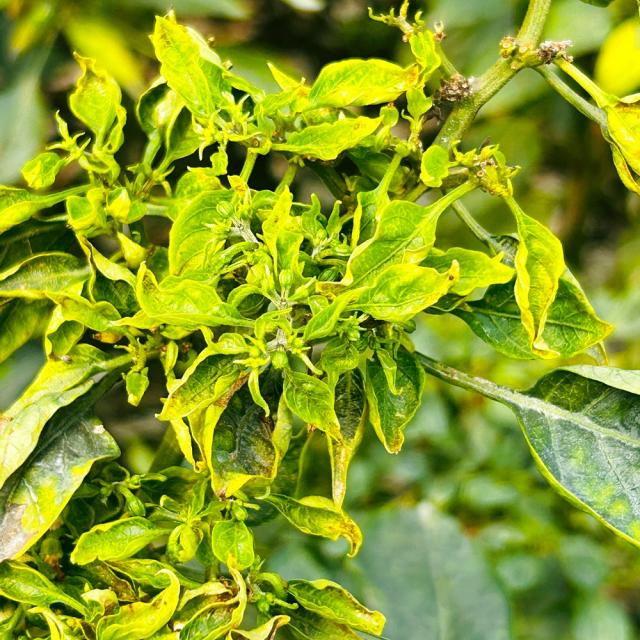Chilli_Leaf_Curl: (0, 1, 638, 638), (412, 346, 638, 549)
